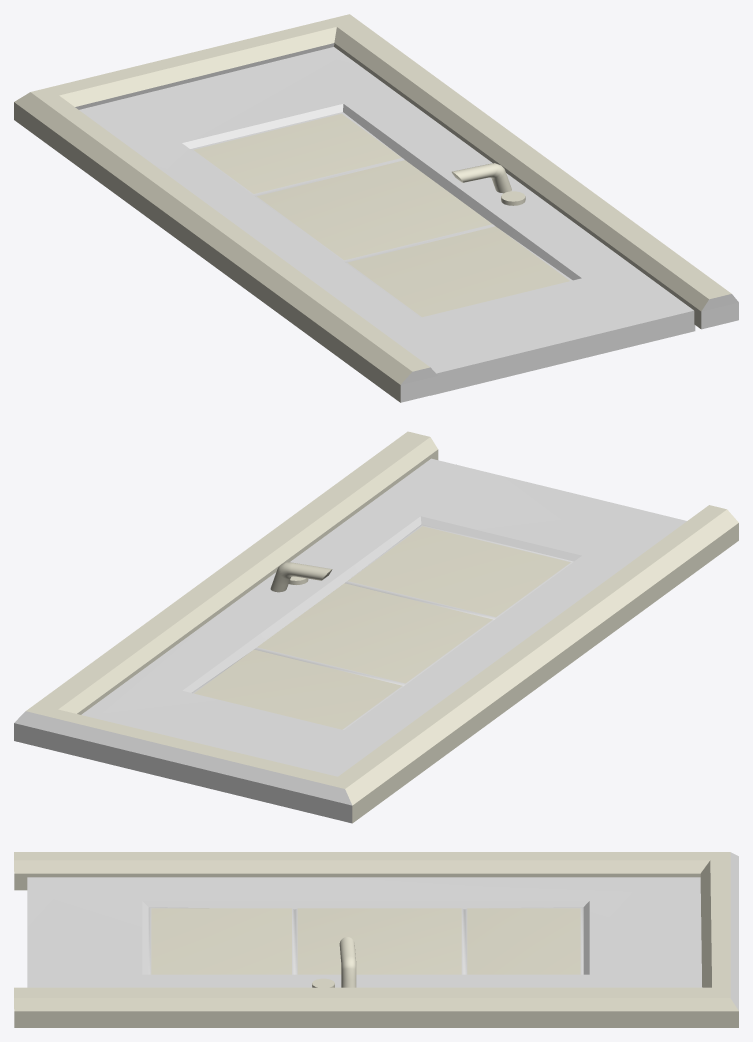
Rendered from DoorUntextured.fbx.
3 views of the same model, one above another, from view 1: azimuth 30°, elevation 25°; view 2: azimuth 150°, elevation 25°; view 3: azimuth 270°, elevation 25° (orthographic). The views are drawn at different scales.
Parts seen in each view (by area): view 1: Door_Uv; view 2: Door_Uv; view 3: Door_Uv.
Part boxes in pixels (x1,y1,x2,y2): Door_Uv: [14, 14, 738, 402]; Door_Uv: [14, 431, 738, 823]; Door_Uv: [14, 852, 738, 1027].
Bounding box in the file's own units: 649 × 94.13 × 1284.
